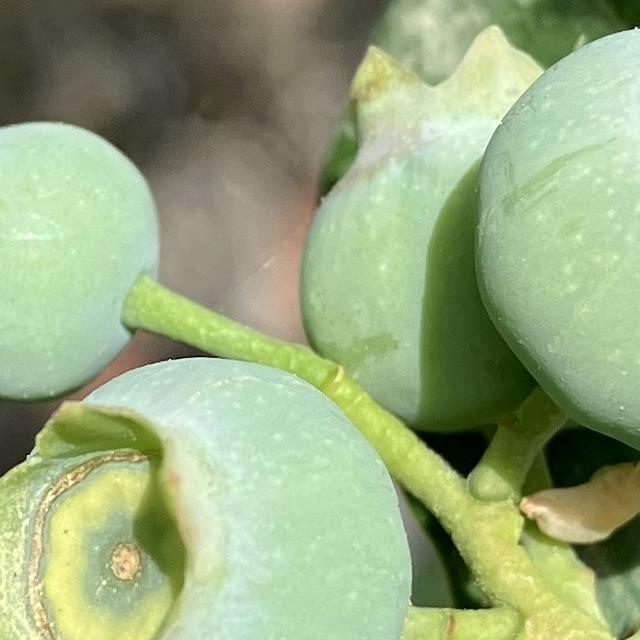Blueberries: (0, 350, 415, 640), (467, 0, 640, 462)
